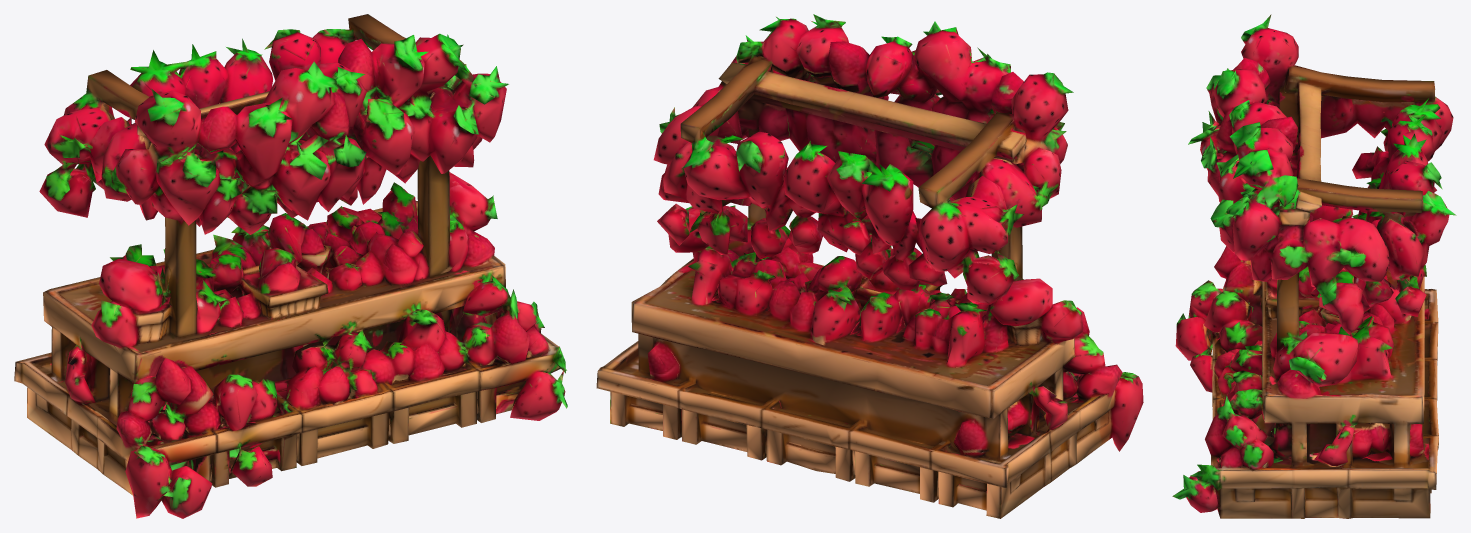
File: Meshy_AI_Strawberry_Stand_Extr_0109065730_texture.fbx
3 views of the same model, side by side, from view 1: azimuth 30°, elevation 25°; view 2: azimuth 150°, elevation 25°; view 3: azimuth 270°, elevation 25° (orthographic). The views are drawn at different scales.
Parts seen in each view (by area): view 1: Mesh1.0; view 2: Mesh1.0; view 3: Mesh1.0.
Boxes of the visible parts, x1,y1,x2,y2 form: Mesh1.0: (14,14,567,518); Mesh1.0: (596,14,1143,518); Mesh1.0: (1172,14,1456,518).
Bounding box in the file's own units: 190 × 170 × 121.
Materials: 1 (1 with a texture image).
